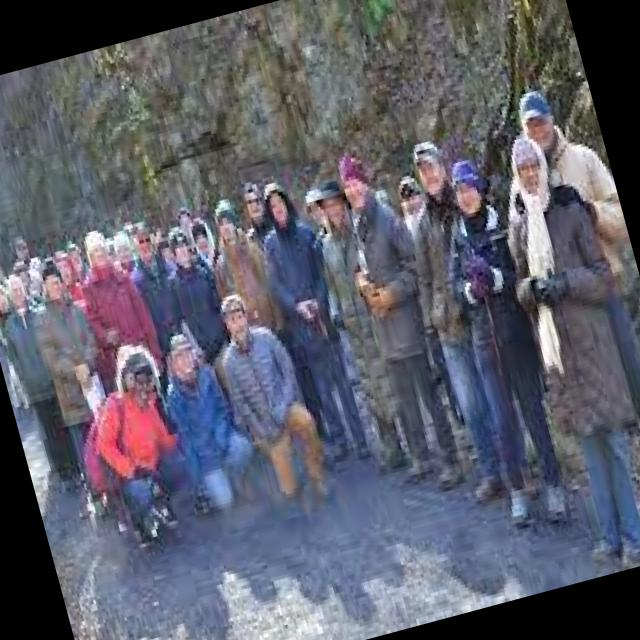Jacket: (492, 182, 640, 439), (509, 129, 640, 311), (436, 199, 544, 386), (336, 195, 443, 378), (312, 216, 405, 422), (394, 187, 498, 358), (254, 216, 354, 382), (22, 290, 124, 440), (74, 254, 174, 404), (89, 383, 194, 515), (150, 245, 252, 379), (215, 323, 314, 455), (157, 362, 253, 483), (208, 241, 290, 366), (123, 244, 197, 372)
